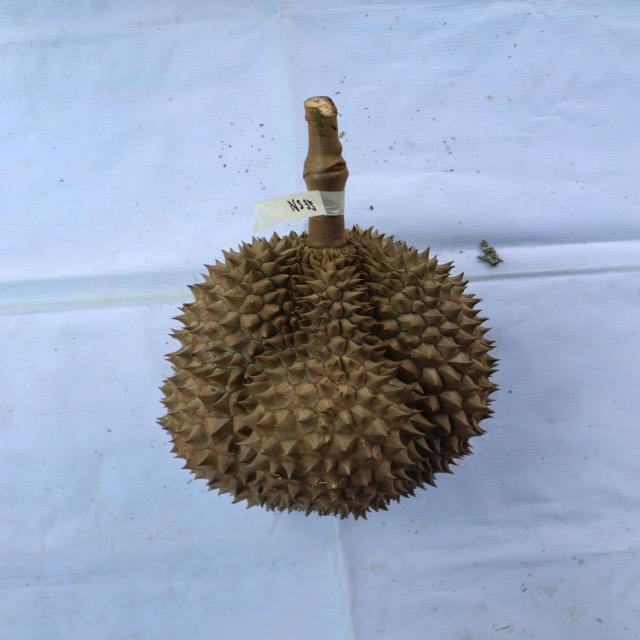mature: (156, 226, 503, 516)
